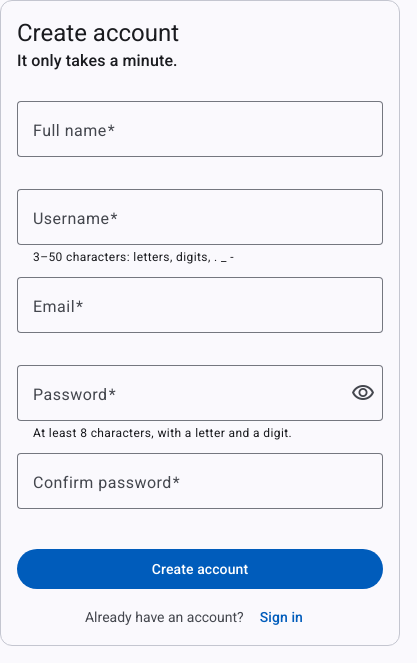
it: RegisterComponent › shows a 409 field error under the matching input, not in the banner
Type "Jane" into the field labelled "Full name" at (200, 129), box 33,117 -> 367,141
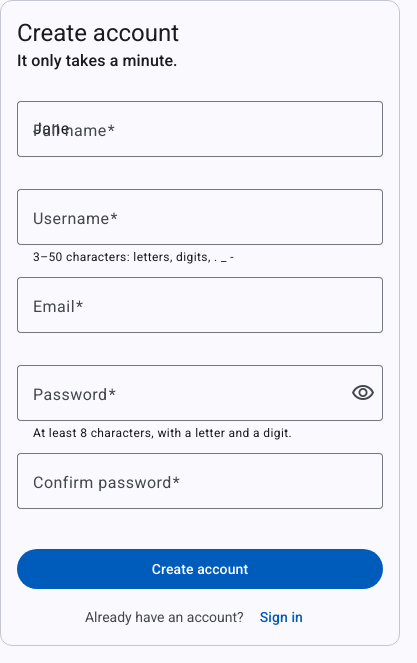
Type "demo" into the field labelled "Username" at (200, 217), box 33,205 -> 367,229
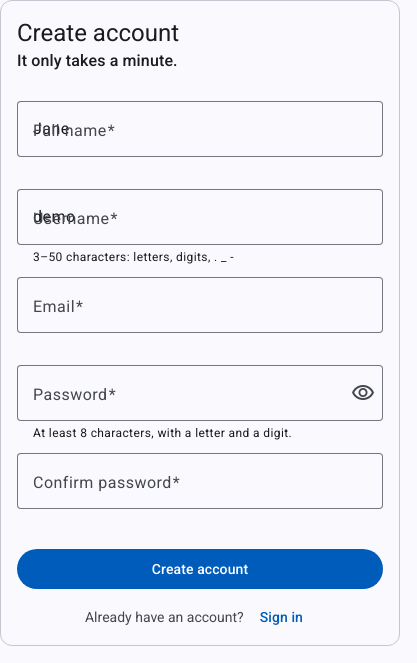
Type "jane@example.com" into the field labelled "Email" at (200, 305), box 33,293 -> 367,317
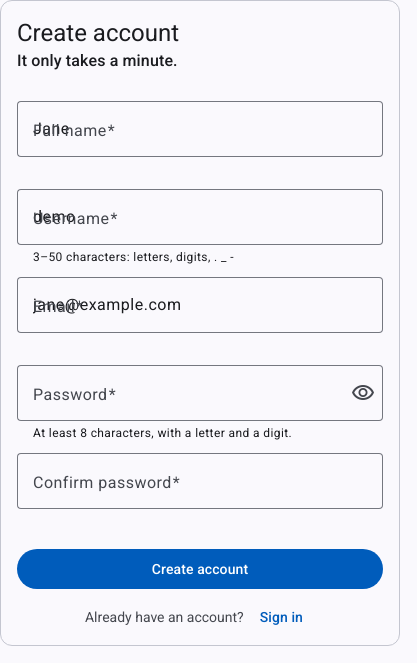
Type "Secret123" into the password field labelled "Password" at (186, 393), box 33,381 -> 339,405
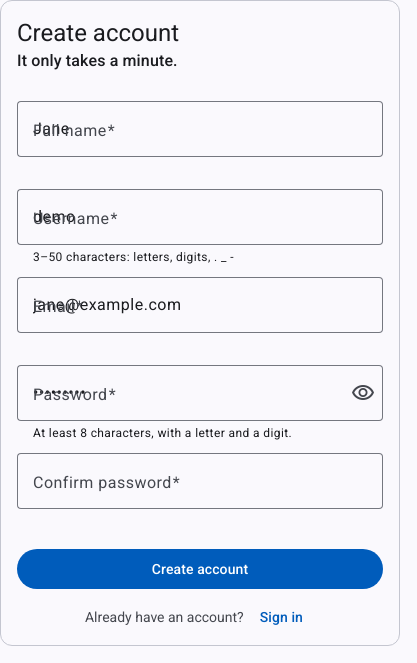
Type "Secret123" into the password field labelled "Confirm password" at (200, 481), box 33,469 -> 367,493
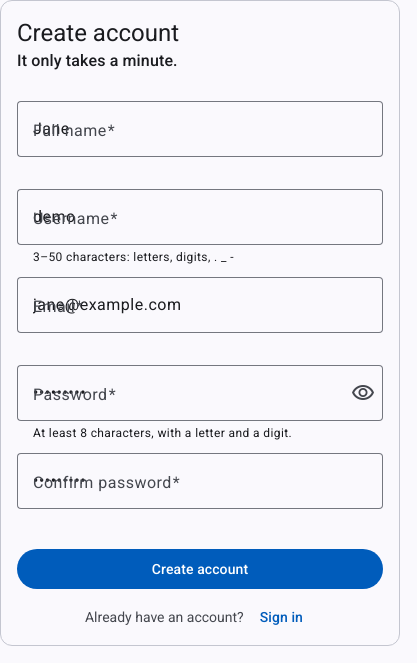
Click the submit button at (200, 569), box 17,549 -> 383,589
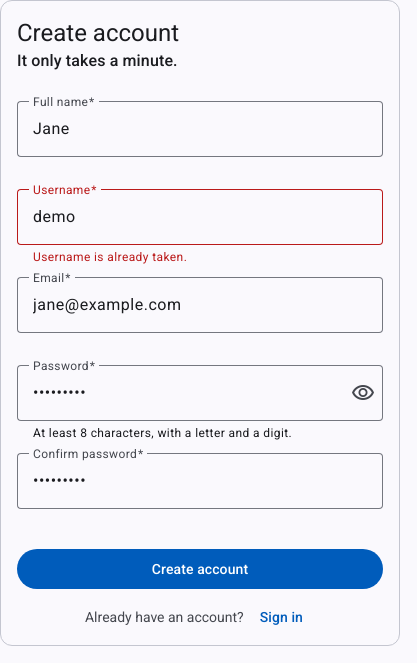
Expected: the text "Username is already taken." is shown, 33,250 -> 187,264
